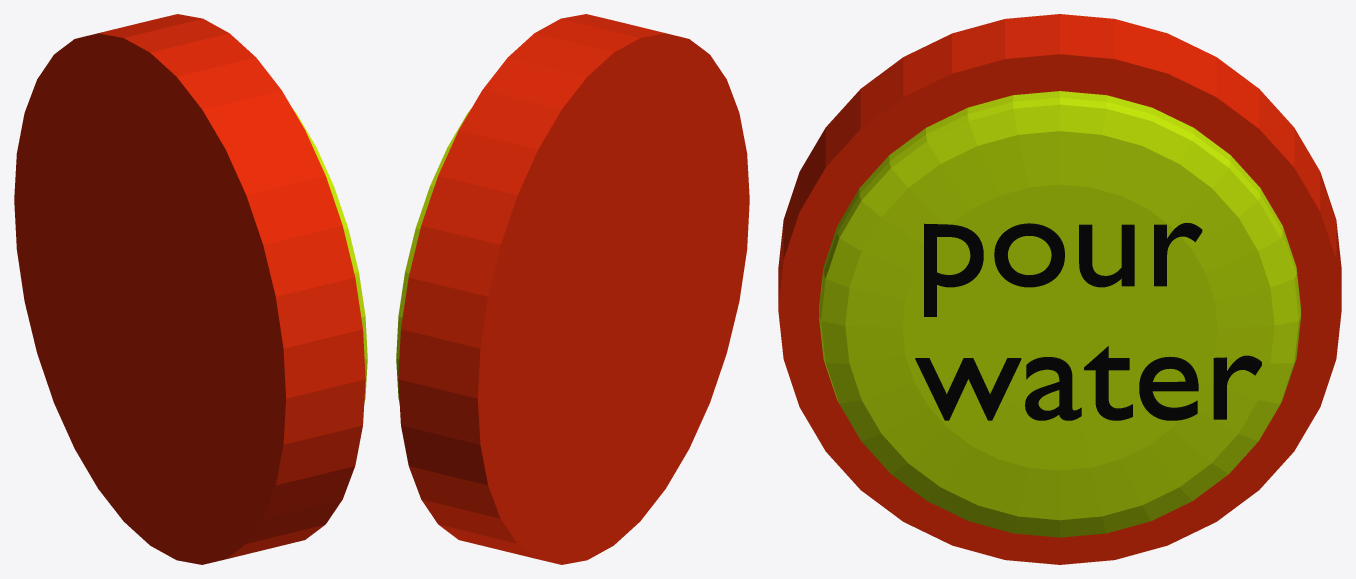
The model's file is button 1.gltf.
The picture shows the model from 3 angles, left to right: view 1: azimuth 30°, elevation 25°; view 2: azimuth 150°, elevation 25°; view 3: azimuth 270°, elevation 25°; orthographic projection. The views are drawn at different scales.
Visible parts, largest first — view 1: Cylinder; view 2: Cylinder; view 3: Cylinder, Text.
Part boxes in pixels (box(x1,y1,x2,y2)): Cylinder: box(14, 14, 367, 564); Cylinder: box(396, 14, 749, 564); Cylinder: box(778, 14, 1341, 564); Text: box(915, 223, 1261, 420).
Size of the model in its own units: 0.5044 by 2 by 2.
